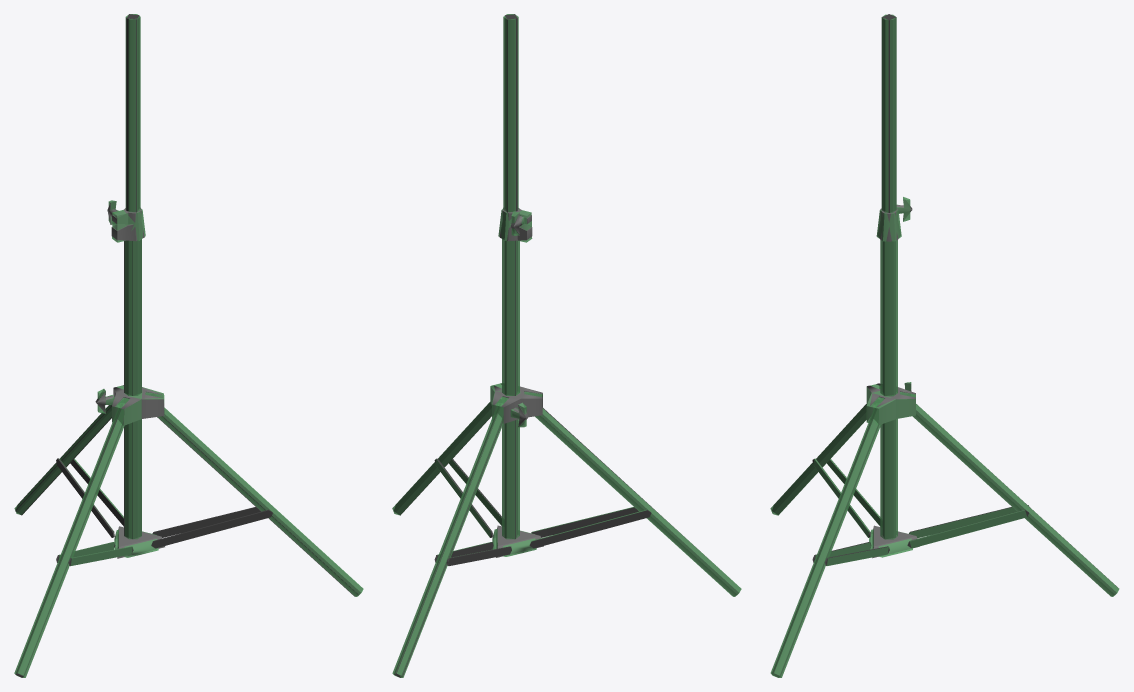
File: Tripod_02_Mesh.fbx
3 views of the same model, side by side, from view 1: azimuth 30°, elevation 25°; view 2: azimuth 150°, elevation 25°; view 3: azimuth 270°, elevation 25° (orthographic).
Parts seen in each view (by area): view 1: Tripod_02_LOD0, Tripod_02_col; view 2: Tripod_02_LOD0, Tripod_02_col; view 3: Tripod_02_col, Tripod_02_LOD0.
Boxes of the visible parts, bbox=[...] form: Tripod_02_LOD0: bbox=[15, 14, 362, 677]; Tripod_02_col: bbox=[14, 14, 363, 677]; Tripod_02_LOD0: bbox=[394, 14, 740, 677]; Tripod_02_col: bbox=[392, 14, 741, 677]; Tripod_02_col: bbox=[770, 14, 1119, 677]; Tripod_02_LOD0: bbox=[772, 14, 1118, 677].
Size of what is drawn, in the model's own units: 0.8995 by 1.44 by 0.7837.
